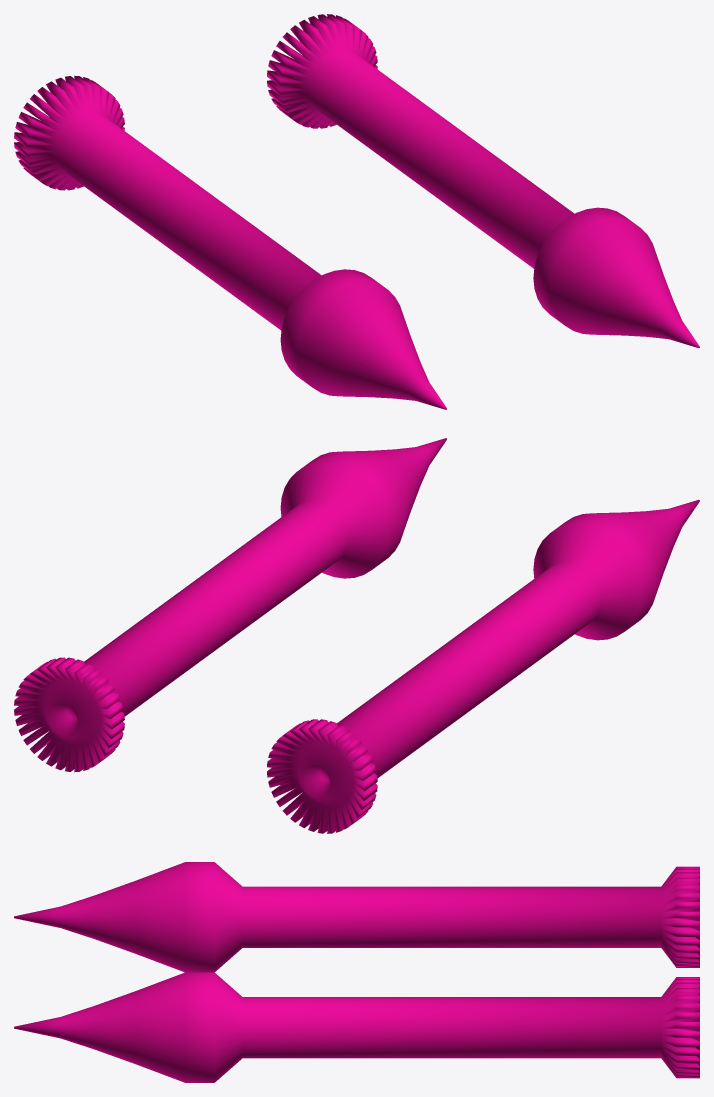
Rendered from evilGod_ballchild.glb.
3 renders of one model, top to bottom at view 1: azimuth 30°, elevation 25°; view 2: azimuth 150°, elevation 25°; view 3: azimuth 270°, elevation 25°, orthographic. The views are drawn at different scales.
Parts seen in each view (by area): view 1: chinaGodBallchild; view 2: chinaGodBallchild; view 3: chinaGodBallchild.
Part boxes in pixels (x1,y1,x2,y2): chinaGodBallchild: [14, 14, 699, 409]; chinaGodBallchild: [14, 438, 699, 833]; chinaGodBallchild: [14, 862, 699, 1082].
Size of the model in its own units: 5.41 by 1.61 by 9.98.
